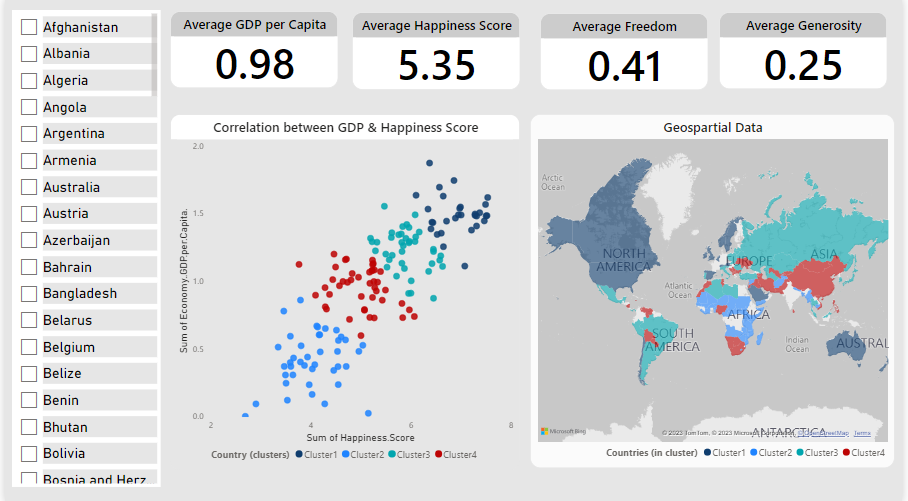

The dashboard page shown, as its layout file describes it:
{"tool":"powerbi","page":{"name":"Page 2","canvas":[1280,720],"ordinal":1},"visuals":[{"type":"slicer","fields":{"Values":["CountryRanks.Country"]},"box":[9.7,16.6,212.3,679.8],"z":0},{"type":"filledMap","title":"Geospartial Data","fields":{"Category":["HappinessData-2017.Country"],"Series":["HappinessData-2017.Country (clusters)"]},"box":[749.1,165.1,520.2,505],"z":0,"group":"g2"},{"type":"group","id":"g1","title":"Group 1","box":[235.8,18,1022.4,112.4],"z":1000},{"type":"card","title":"Average Freedom","fields":{"Values":["HappinessData-2017.Average Freedom"]},"box":[763,20.8,240,109.6],"z":1000,"group":"g1"},{"type":"card","title":"Average Happiness Score","fields":{"Values":["HappinessData-2017.Average Happines Score"]},"box":[495.2,19.4,240,111],"z":2000,"group":"g1"},{"type":"group","id":"g2","title":"Group 2","box":[235.8,165.1,1033.5,507.7],"z":2000},{"type":"card","title":"Average GDP per Capita","fields":{"Values":["HappinessData-2017.Average GDP.per.Capita"]},"box":[235.8,18,240,109.6],"z":3000,"group":"g1"},{"type":"card","title":"Average Generosity","fields":{"Values":["HappinessData-2017.Average Generosity"]},"box":[1018.2,19.4,240,109.6],"z":4000,"group":"g1"},{"type":"scatterChart","title":"Correlation between GDP & Happiness Score","fields":{"Category":["HappinessData-2017.Country"],"X":["Sum(HappinessData-2017.Happiness.Score)"],"Series":["HappinessData-2017.Country (clusters)"],"Y":["Sum(HappinessData-2017.Economy..GDP.per.Capita.)"]},"box":[235.8,165.1,499.4,507.7],"z":5000,"group":"g2"}]}

Visuals, with their boxes in screenshot pixels (x1, y1, x2, y2), scaled from the page's 1280x720 canvas onto the 908x501 screenshot:
slicer - CountryRanks.Country: <box>7,12,157,485</box>
"Geospartial Data" filledMap: <box>531,115,900,466</box>
"Group 1" group: <box>167,13,893,91</box>
"Average Freedom" card: <box>541,14,712,91</box>
"Average Happiness Score" card: <box>351,13,522,91</box>
"Group 2" group: <box>167,115,900,468</box>
"Average GDP per Capita" card: <box>167,13,338,89</box>
"Average Generosity" card: <box>722,13,893,90</box>
"Correlation between GDP & Happiness Score" scatterChart: <box>167,115,522,468</box>
